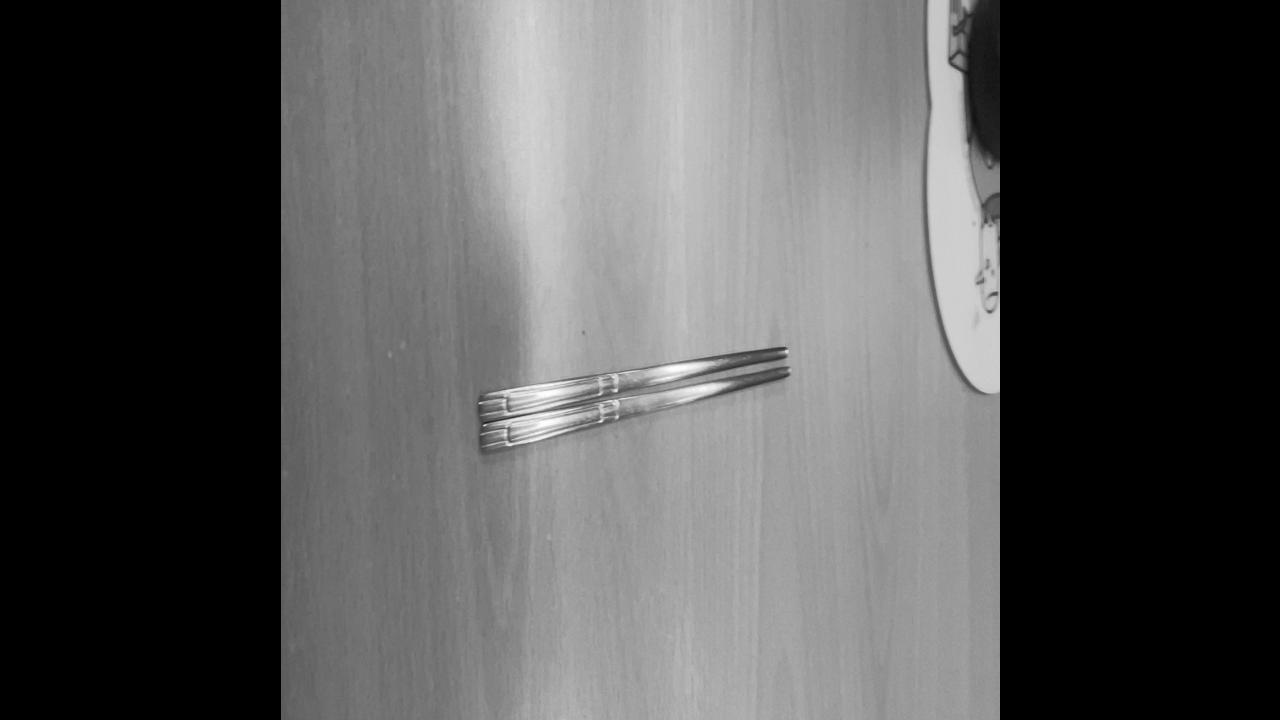chopstick: (473, 337, 791, 456)
